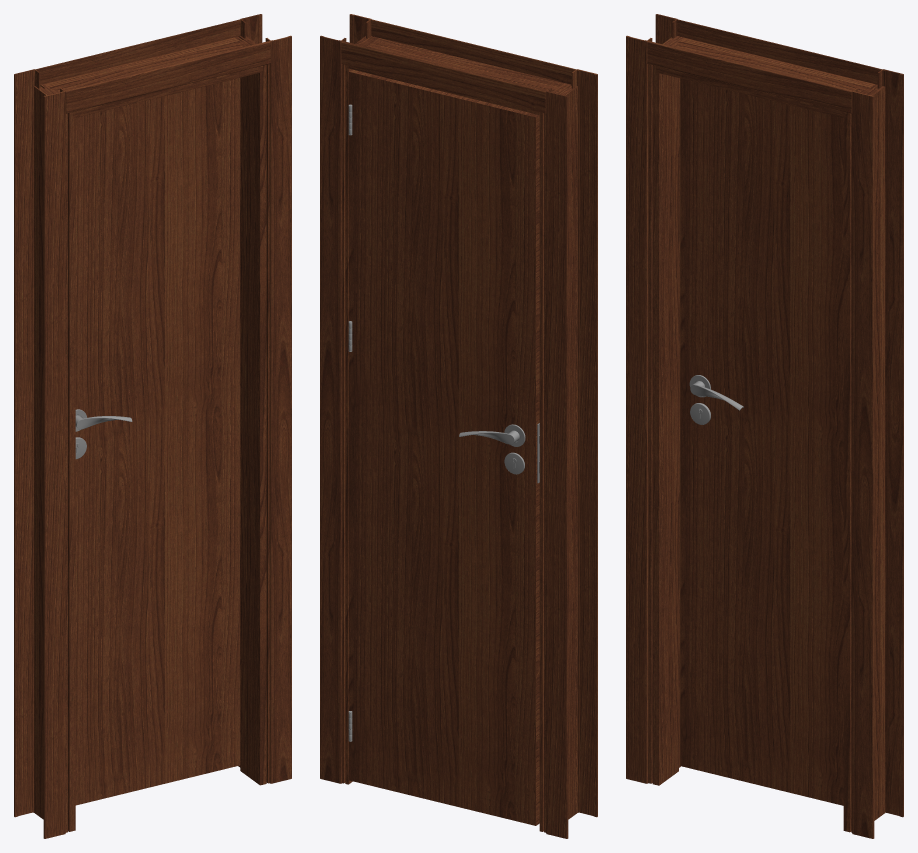
Rendered from Door.fbx.
The picture shows the model from 3 angles, left to right: view 1: azimuth 30°, elevation 25°; view 2: azimuth 150°, elevation 25°; view 3: azimuth 330°, elevation 25°; orthographic projection.
Visible parts, largest first — view 1: Krilo, Ramka, Kasa; view 2: Krilo, Ramka, Kasa, Handle; view 3: Krilo, Ramka, Kasa, Handle.
Part boxes in pixels (bbox=[...]): Krilo: bbox=[75, 78, 240, 805]; Ramka: bbox=[14, 14, 291, 838]; Kasa: bbox=[34, 36, 269, 832]; Krilo: bbox=[349, 69, 539, 825]; Ramka: bbox=[320, 14, 597, 838]; Kasa: bbox=[342, 36, 577, 832]; Handle: bbox=[459, 424, 525, 446]; Krilo: bbox=[680, 78, 843, 805]; Ramka: bbox=[626, 14, 903, 838]; Kasa: bbox=[648, 36, 885, 832]; Handle: bbox=[689, 375, 743, 410].
Bounding box in the file's own units: 74.77 × 214 × 20.06.
Materials: 6 (1 with a texture image).
